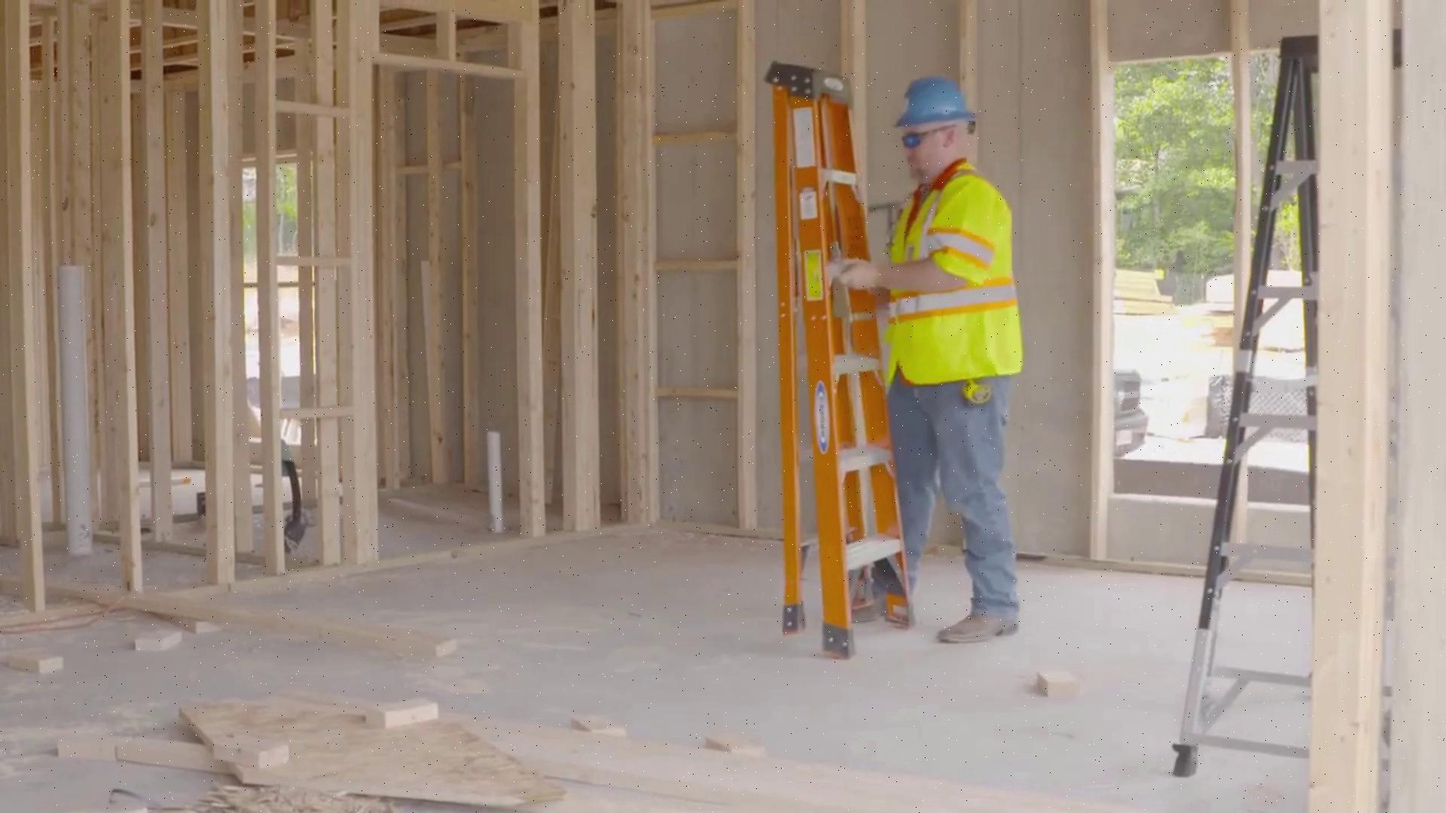Hard_hat: (883, 73, 983, 126)
Vest: (868, 176, 1022, 390)
